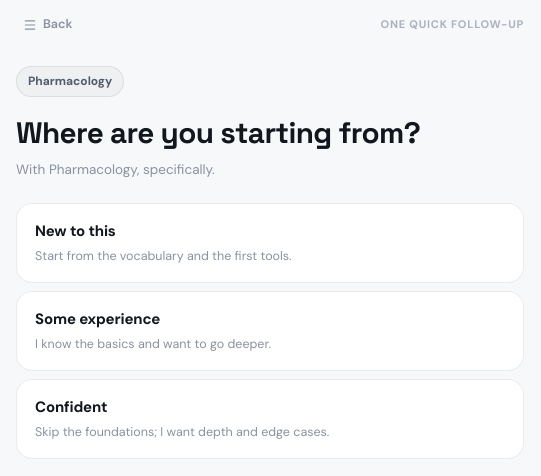
it: LearnBuilder › still asks the two follow-ups that make a section correctly levelled
Click the text "Some experience": (98, 320) [35,308,160,331]
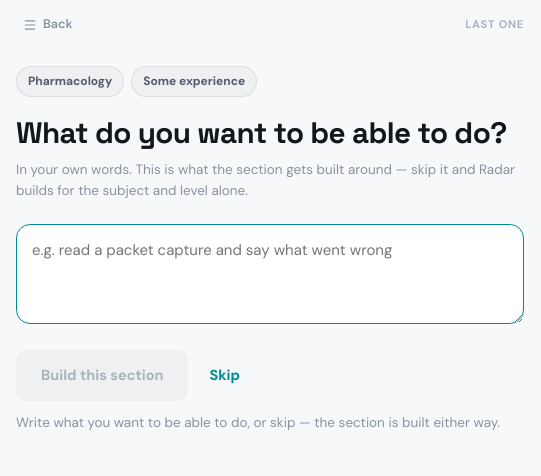
Now the heading "What do you want to be able to do?" is shown, box [16,115,524,151]
Now the text "Last one" is shown, box [465,16,524,33]
